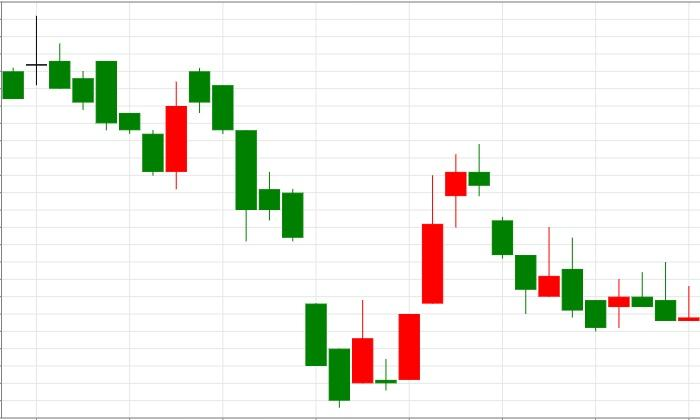bullish_engulfing_rise: (26, 15, 188, 189)
